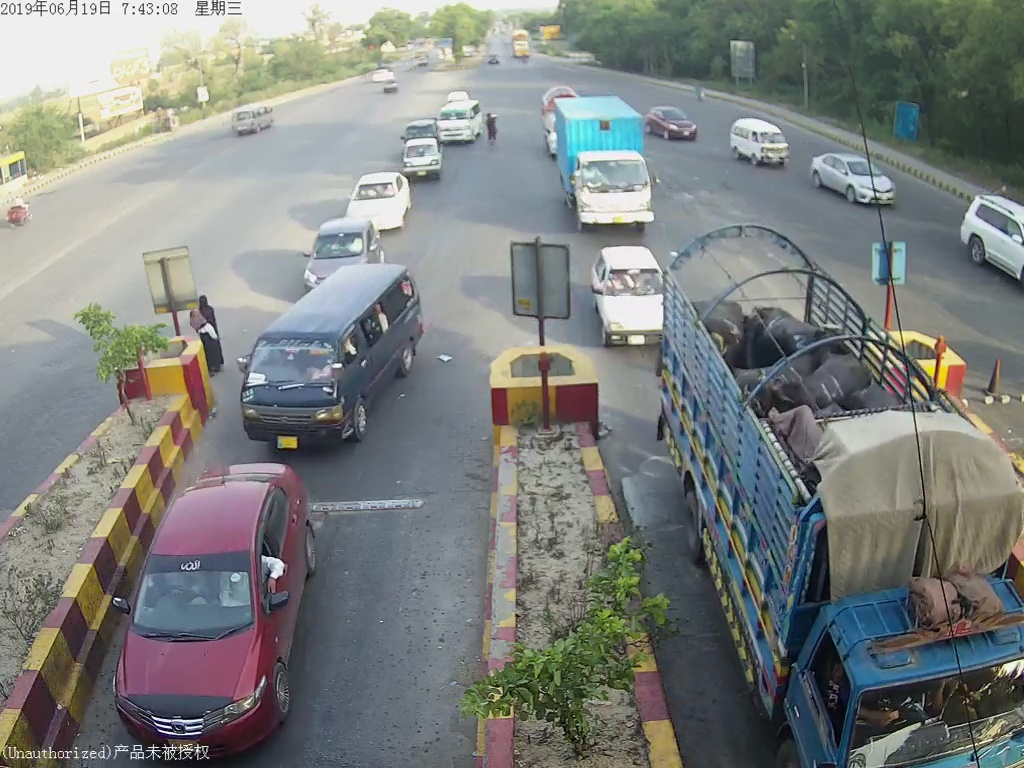Cat-1: (112, 476, 329, 741), (594, 249, 660, 347)
Cat-2: (238, 266, 431, 461), (555, 102, 660, 236)
Cat-4: (665, 236, 1024, 765)
